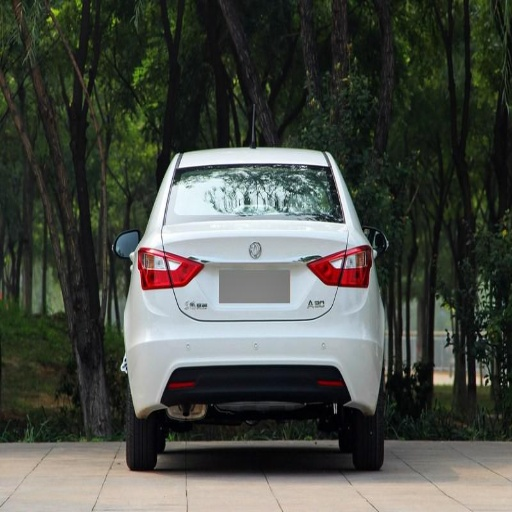back_bumper: (117, 284, 389, 420)
tailgate: (182, 219, 346, 320)
trunk: (144, 223, 250, 299)
